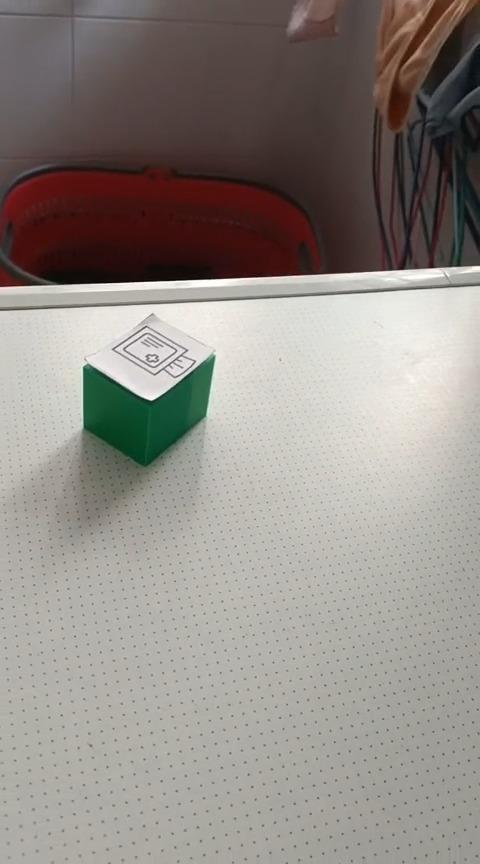Gauze: (81, 311, 216, 467)
